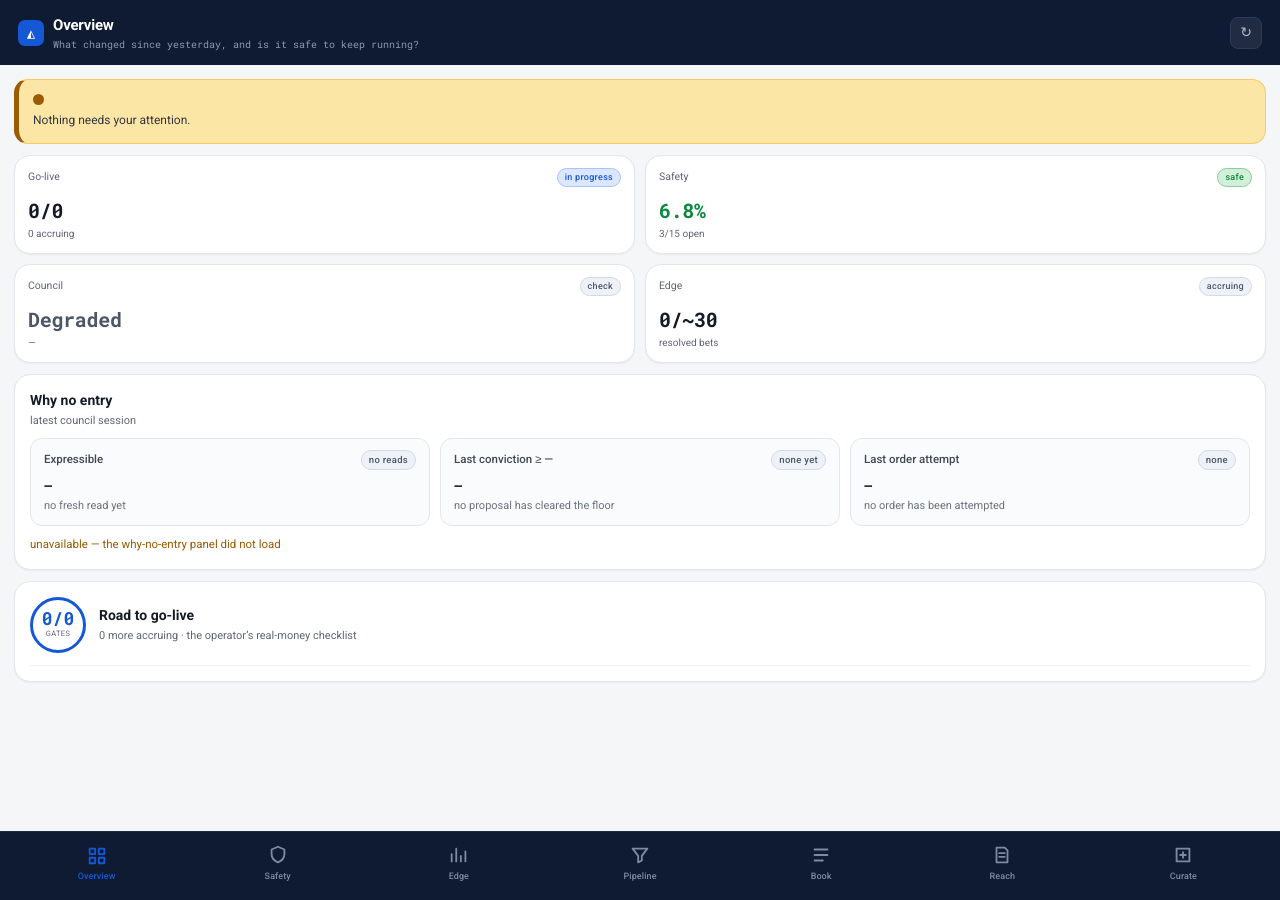
kill tile — dollar distance to the halt › mobile: halt % follows the snapshot
Click the tab "Safety": (278, 863) [187,840,368,886]
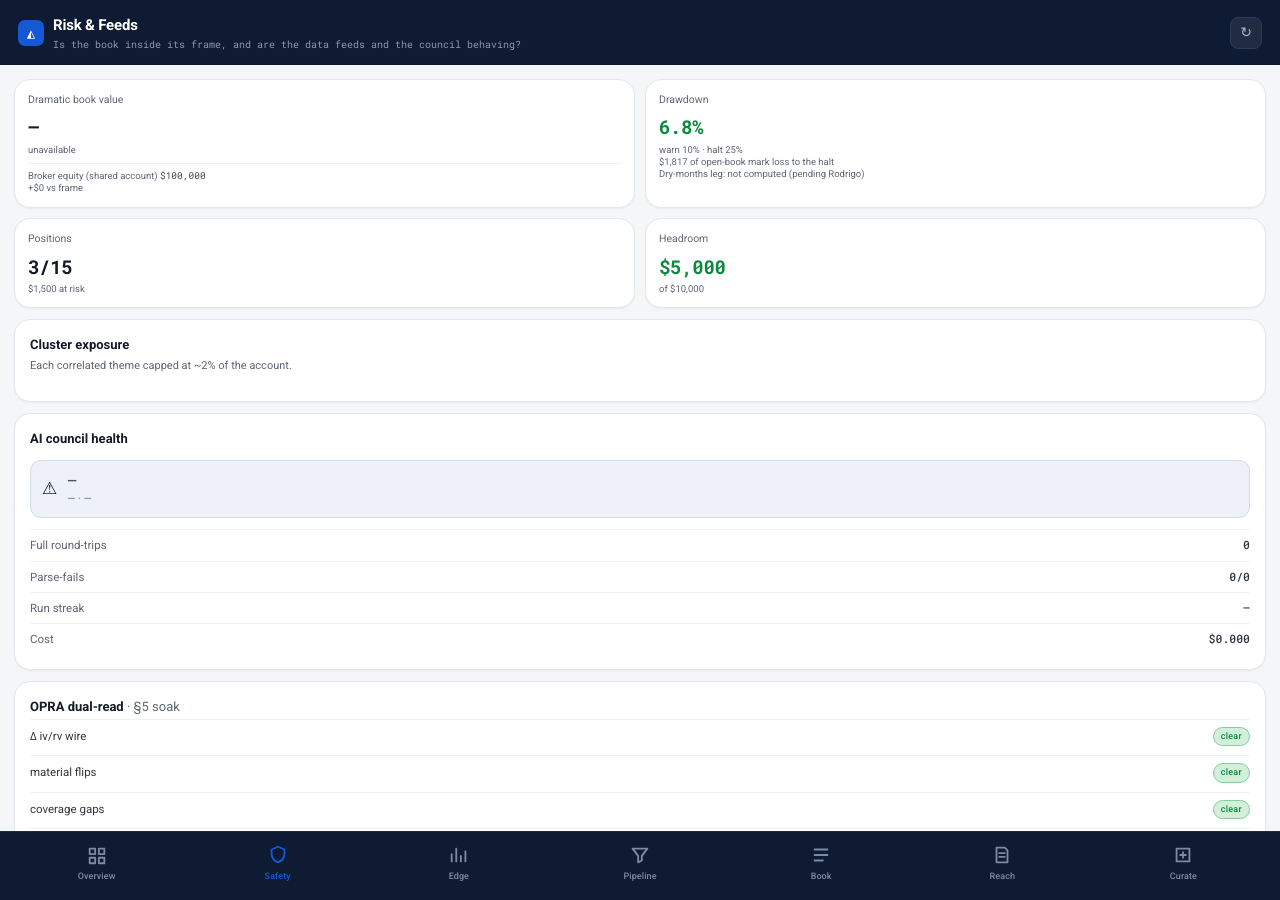
Check: the text "halt 25%" is shown, box [659,144,865,180]
Check: the text "$1,817 of open-book mark loss to the halt" is shown, box [659,156,834,167]
